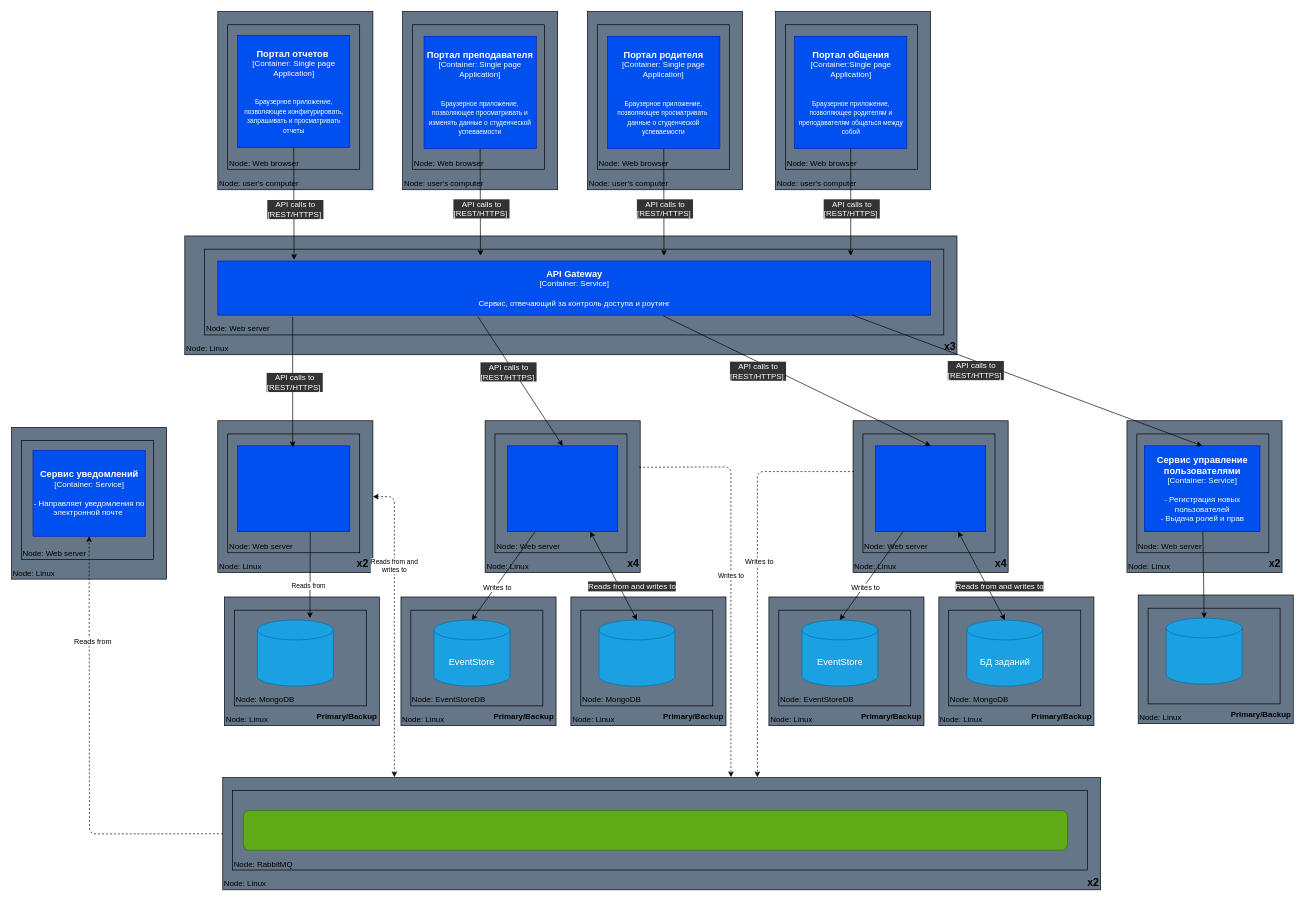
The diagram is 1305 pixels wide and 902 high, and some of its shapes have lost their labels. Each missing label, with the box of its shape:
Node: PostgreSQL: (1147, 608, 1280, 704)
БД занятий: (598, 619, 675, 686)
БД отчетов: (257, 619, 333, 686)
БД пользователей: (1166, 617, 1242, 684)
Очередь интеграционных событий [Container: Queue]: (243, 810, 1068, 850)
Сервис заданий [Container: Service] - Управление данными о заданиях: (875, 445, 986, 532)
Сервис занятий [Container: Service] - Управление данными об посещаемости: (507, 445, 618, 532)
Сервис отчетов [Container: Service] - Генерация отчетов: (237, 445, 350, 532)
